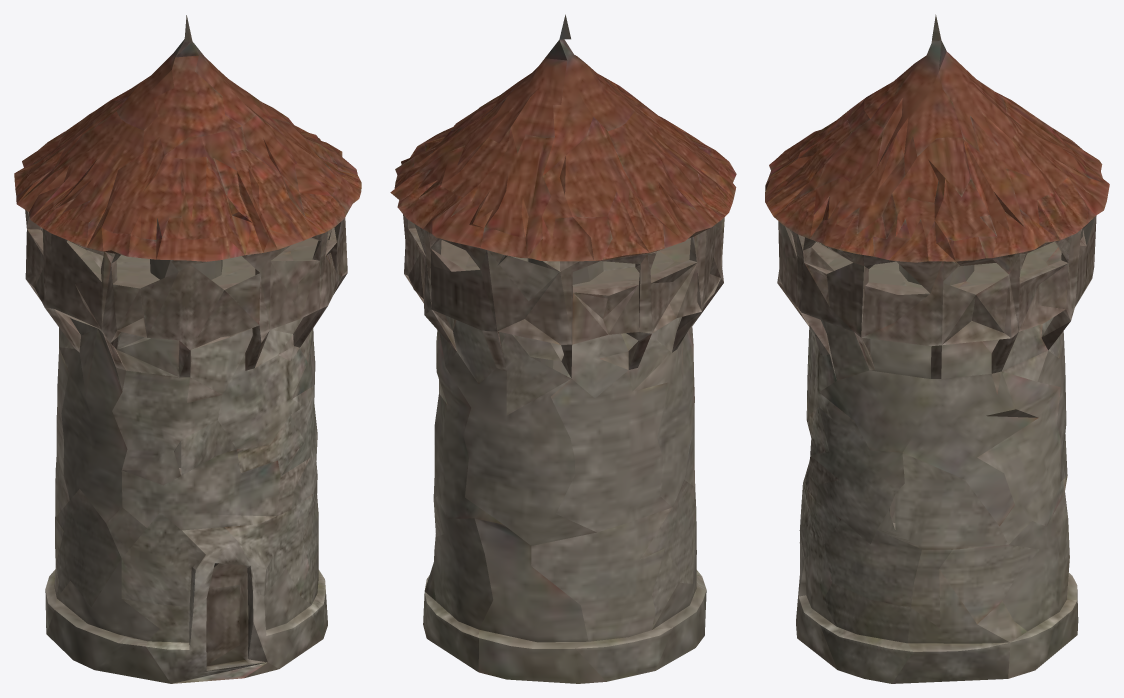
File: tower.glb
The picture shows the model from 3 angles, left to right: view 1: azimuth 30°, elevation 25°; view 2: azimuth 150°, elevation 25°; view 3: azimuth 270°, elevation 25°; orthographic projection.
Size of the model in its own units: 0.9902 by 1.9 by 0.9698.
1 material, 1 textured.
